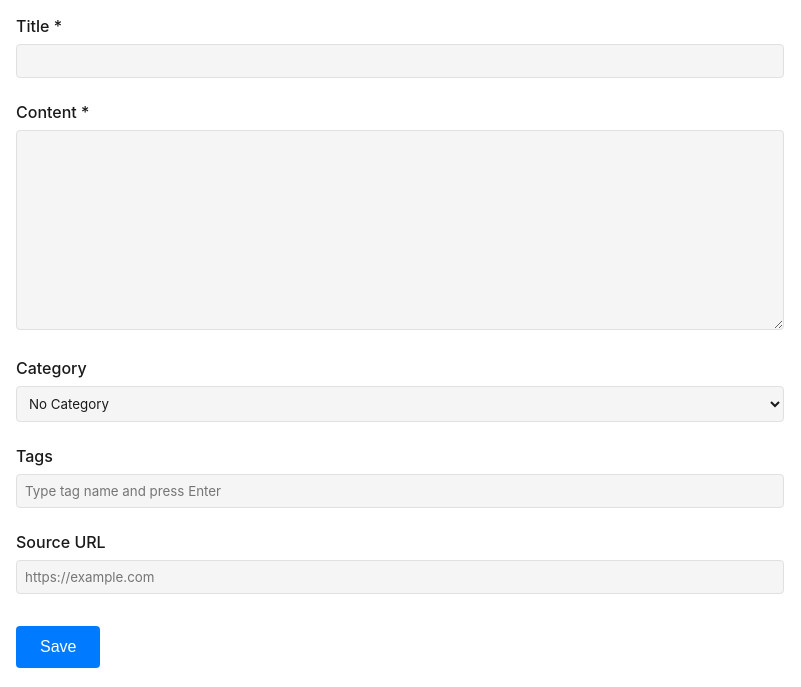
Test: NoteEditor Component › should display error message on save failure
Type "New Note" into the field labelled "Title *" at (400, 61), box x1=16 y1=44 x2=784 y2=78
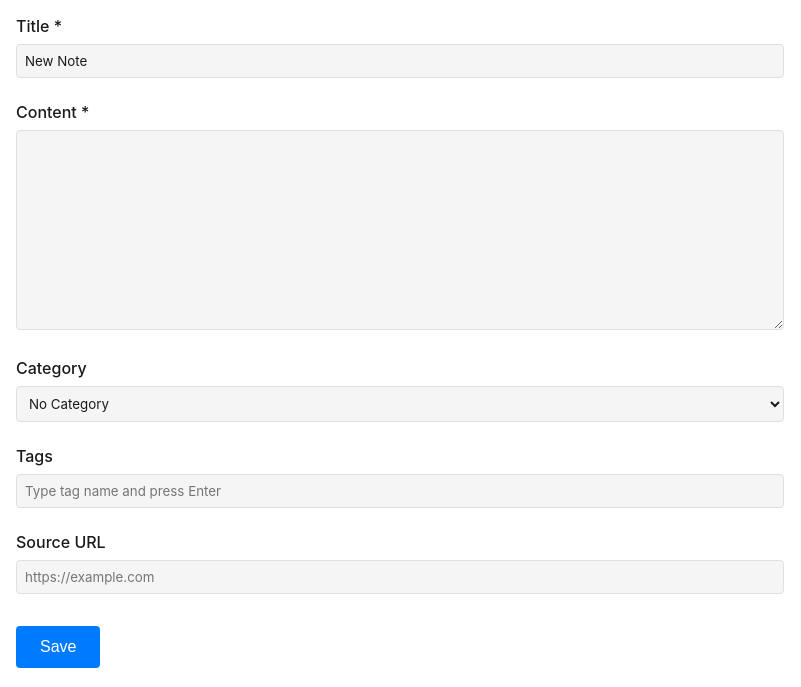
Type "Content" into the text box labelled "Content *" at (400, 230), box x1=16 y1=130 x2=784 y2=330
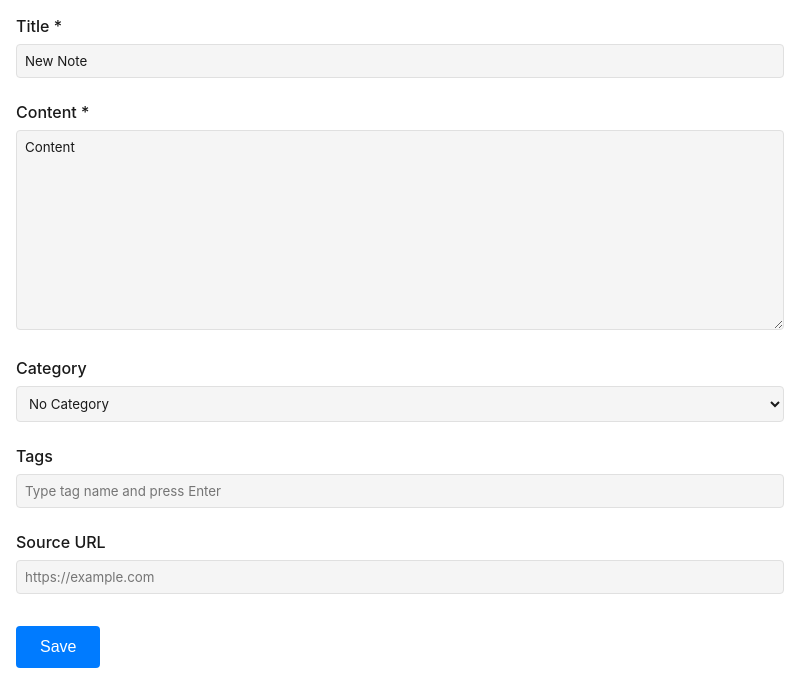
Click the button "Save" at (58, 647), box x1=16 y1=626 x2=100 y2=668
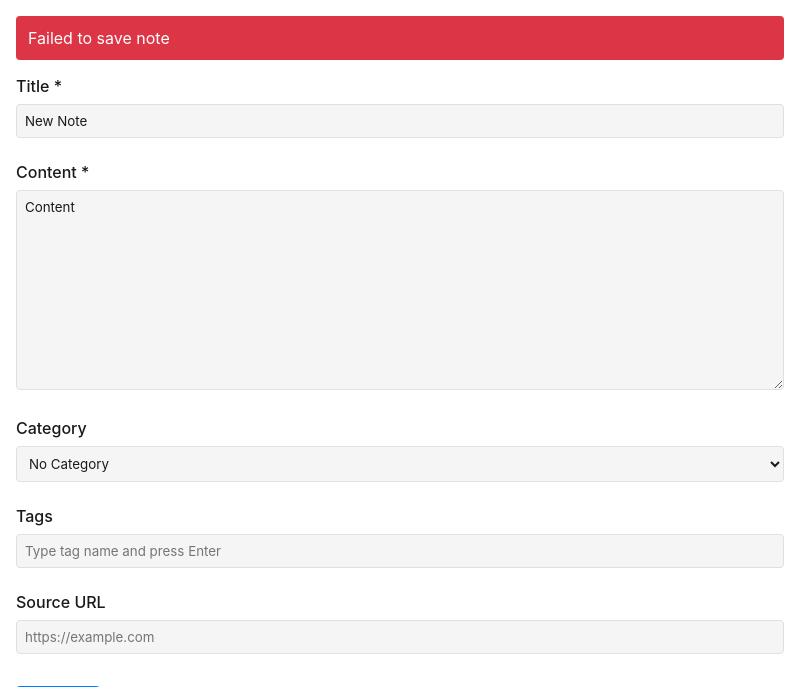
Check: the text "Failed to save note" is shown, box x1=16 y1=16 x2=784 y2=60
